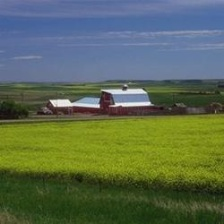neutral: (3, 3, 222, 219)
